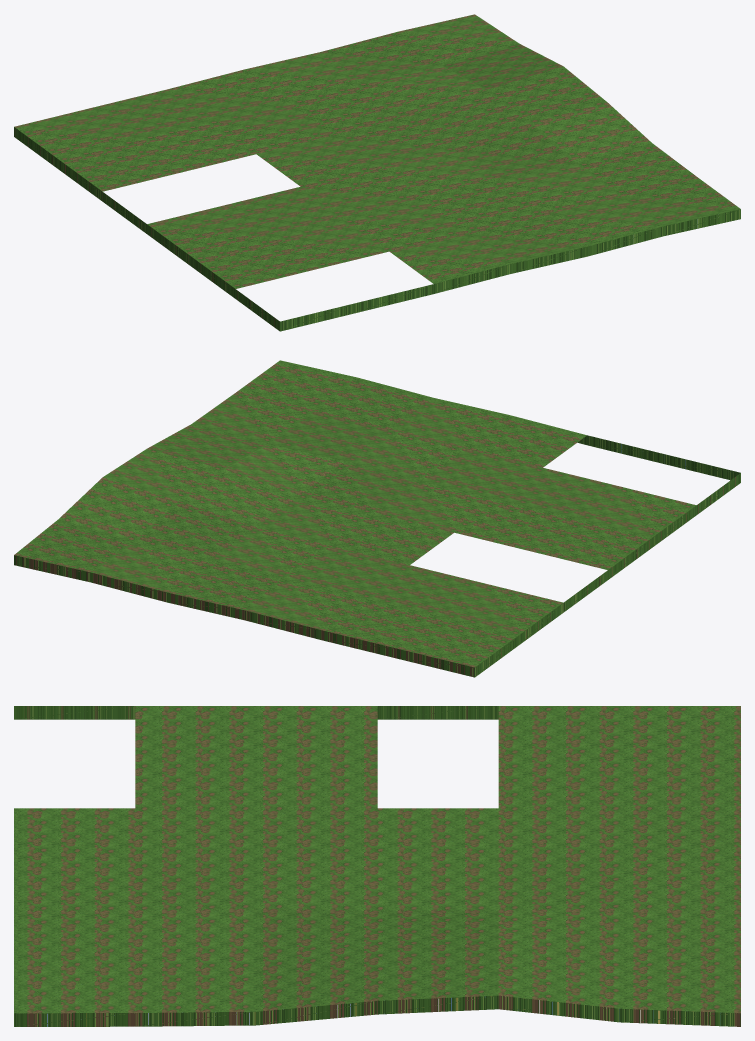
The model's file is rv_terrain_20_lod3.gltf.
3 renders of one model, top to bottom at view 1: azimuth 30°, elevation 25°; view 2: azimuth 150°, elevation 25°; view 3: azimuth 270°, elevation 25°, orthographic. The views are drawn at different scales.
Visible parts, largest first — view 1: RV_Terrain_20_lod3; view 2: RV_Terrain_20_lod3; view 3: RV_Terrain_20_lod3.
Boxes of the visible parts, x1,y1,x2,y2 form: RV_Terrain_20_lod3: (14, 14, 740, 331); RV_Terrain_20_lod3: (14, 360, 740, 677); RV_Terrain_20_lod3: (14, 706, 740, 1026).
Bounding box in the file's own units: 72 × 3.43 × 72.
Materials: 2 (1 with a texture image).
